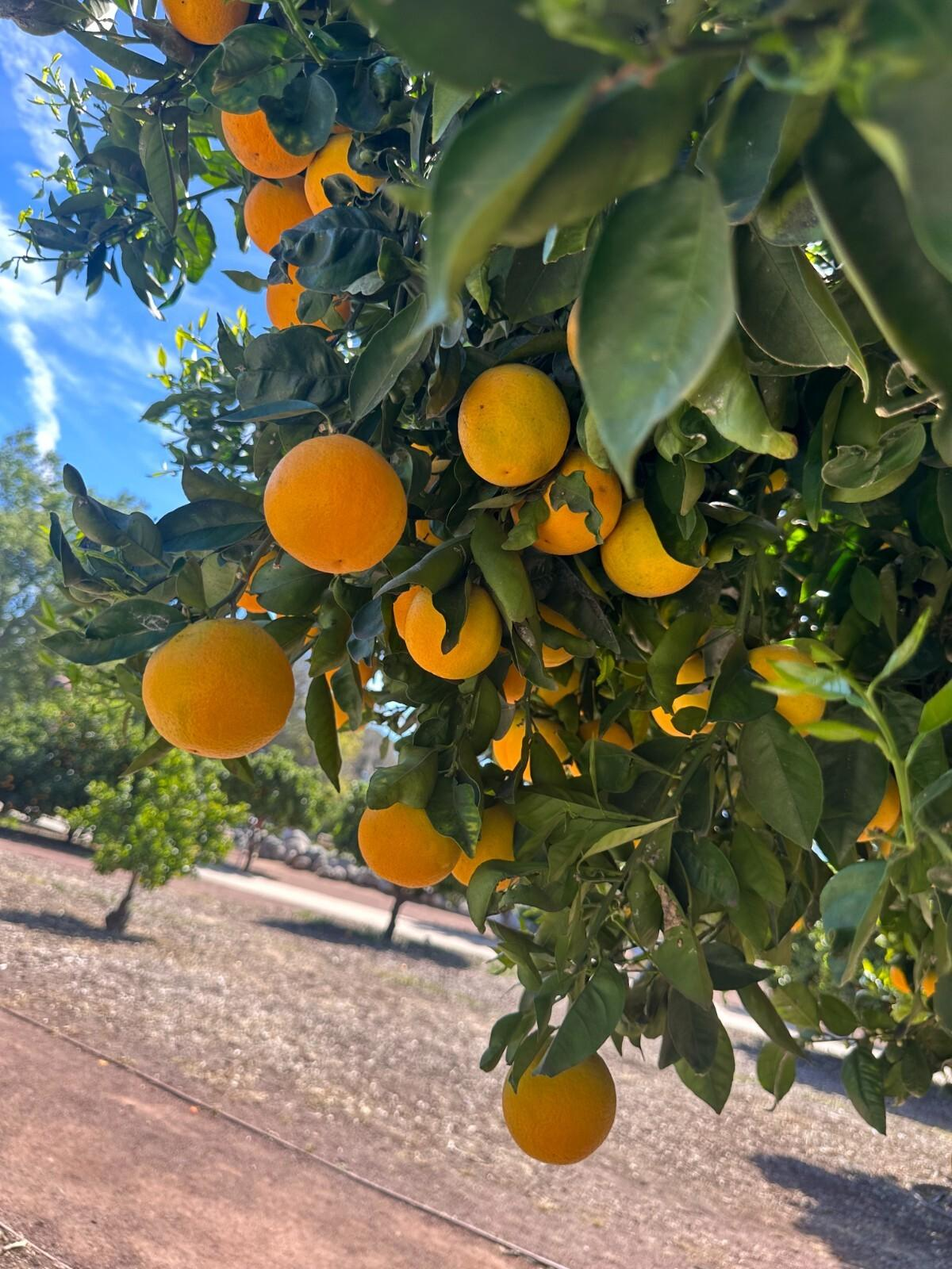orange: (142, 619, 294, 759), (263, 434, 407, 574), (502, 1034, 616, 1163), (458, 364, 569, 487), (509, 443, 623, 554), (601, 500, 700, 597), (404, 580, 501, 677), (358, 803, 462, 888), (746, 644, 827, 739), (304, 133, 392, 220), (450, 799, 522, 892), (221, 110, 315, 178), (265, 265, 353, 337), (493, 706, 573, 783), (650, 656, 719, 738), (245, 176, 311, 253), (570, 718, 635, 781), (163, 0, 249, 45), (536, 600, 588, 666), (857, 770, 901, 843), (233, 552, 284, 612), (534, 666, 583, 713), (567, 274, 588, 373), (275, 604, 325, 645), (494, 645, 527, 703), (332, 688, 376, 731), (393, 586, 425, 642), (889, 964, 940, 999), (881, 809, 905, 862), (414, 520, 446, 546), (358, 655, 381, 690)
